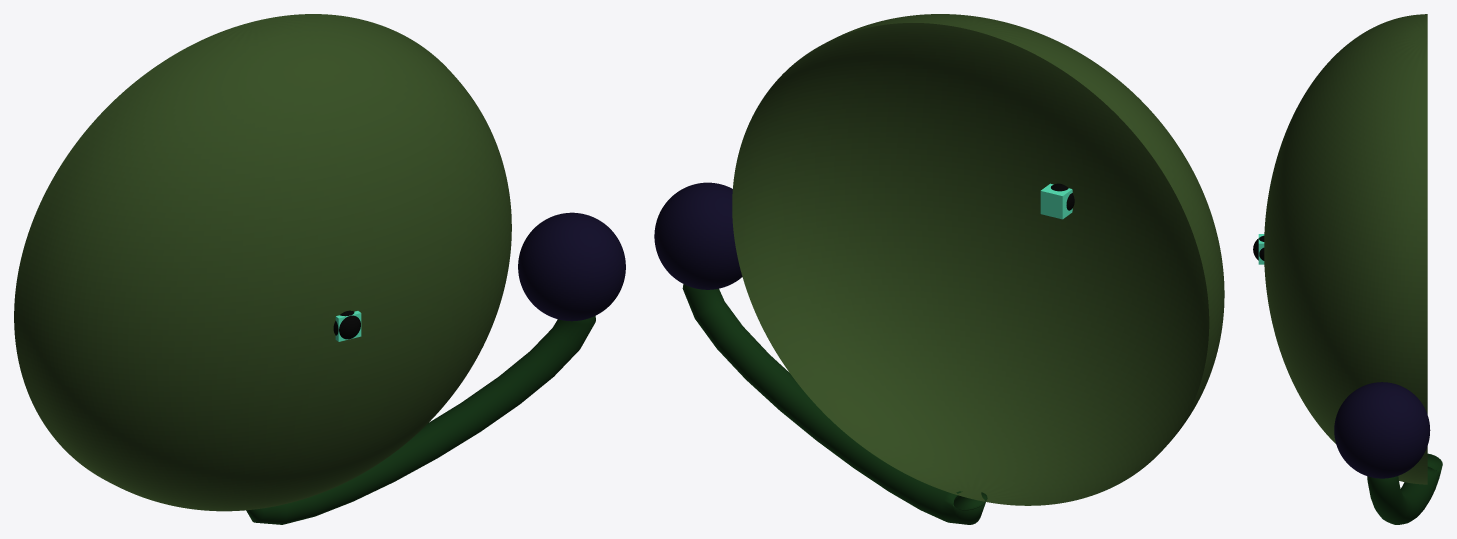
The model's file is clock.fbx.
3 renders of one model, left to right at view 1: azimuth 30°, elevation 25°; view 2: azimuth 150°, elevation 25°; view 3: azimuth 270°, elevation 25°, orthographic. The views are drawn at different scales.
Visible parts, largest first — view 1: Сфера, КриваяБезье, Сфера.001; view 2: Сфера, КриваяБезье, Сфера.001, Куб; view 3: Сфера, Сфера.001, КриваяБезье.
Part boxes in pixels (x1=…): Сфера: x1=14, y1=14, x2=511, y2=511; КриваяБезье: x1=246, y1=316, x2=595, y2=524; Сфера.001: x1=518, y1=212, x2=625, y2=321; Сфера: x1=732, y1=14, x2=1224, y2=505; КриваяБезье: x1=682, y1=284, x2=987, y2=524; Сфера.001: x1=654, y1=182, x2=742, y2=289; Куб: x1=1040, y1=183, x2=1072, y2=219; Сфера: x1=1264, y1=14, x2=1427, y2=484; Сфера.001: x1=1334, y1=382, x2=1430, y2=478; КриваяБезье: x1=1367, y1=453, x2=1442, y2=524.
Size of the model in its own units: 763 by 635 by 243.
